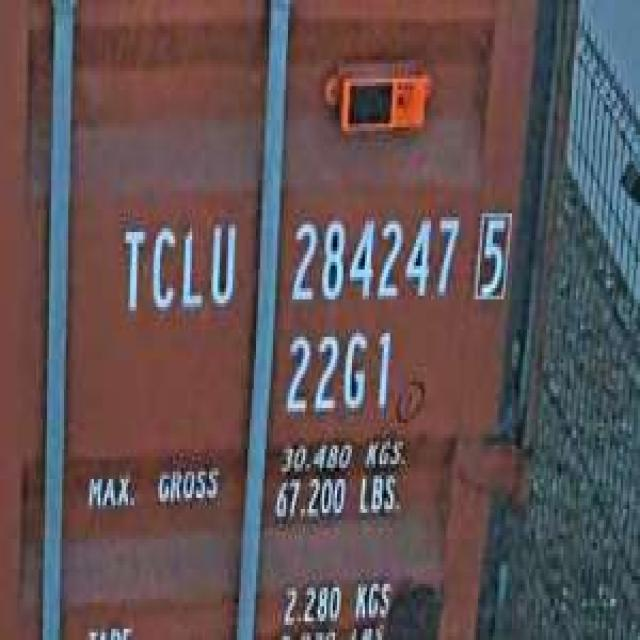dv: (467, 198, 514, 311)
owner: (115, 210, 241, 330)
serial: (282, 202, 460, 311)
size: (277, 322, 397, 423)
